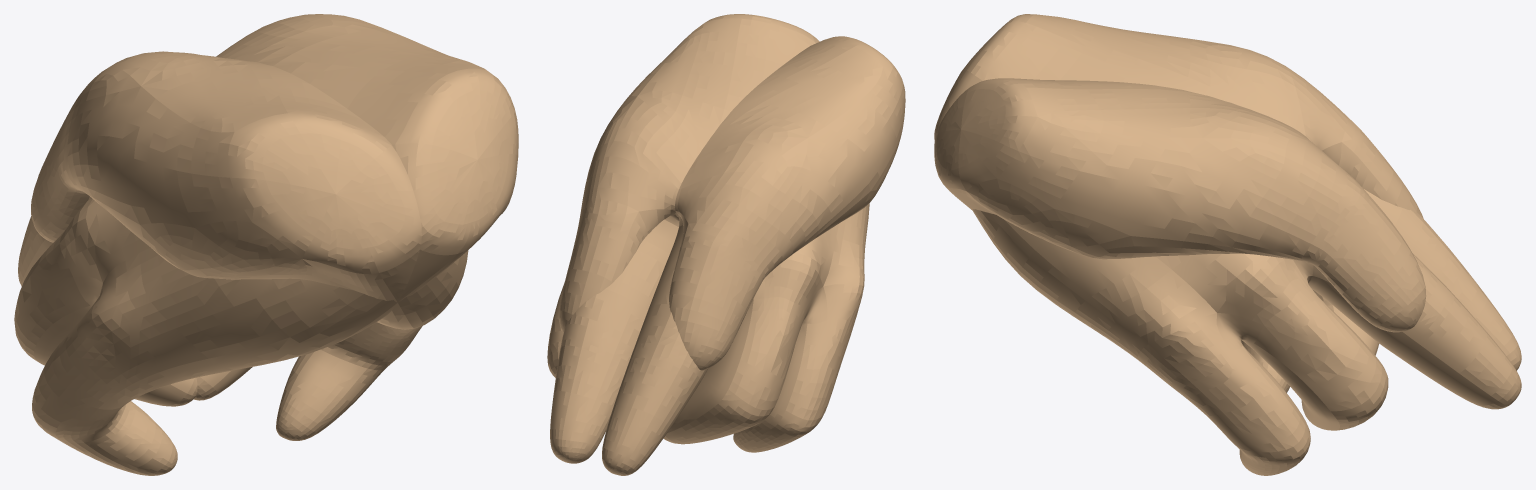
The model's file is hands.glb.
The picture shows the model from 3 angles, left to right: view 1: azimuth 30°, elevation 25°; view 2: azimuth 150°, elevation 25°; view 3: azimuth 270°, elevation 25°; orthographic projection. The views are drawn at different scales.
Parts seen in each view (by area): view 1: left_hand, right_hand; view 2: left_hand, right_hand; view 3: right_hand, left_hand.
Boxes of the visible parts, bbox=[...] form: left_hand: bbox=[14, 14, 518, 475]; right_hand: bbox=[31, 51, 468, 440]; left_hand: bbox=[559, 14, 869, 475]; right_hand: bbox=[547, 36, 905, 463]; right_hand: bbox=[934, 14, 1521, 475]; left_hand: bbox=[934, 78, 1521, 392].
Bounding box in the file's own units: 0.0946 × 0.1167 × 0.1603.
